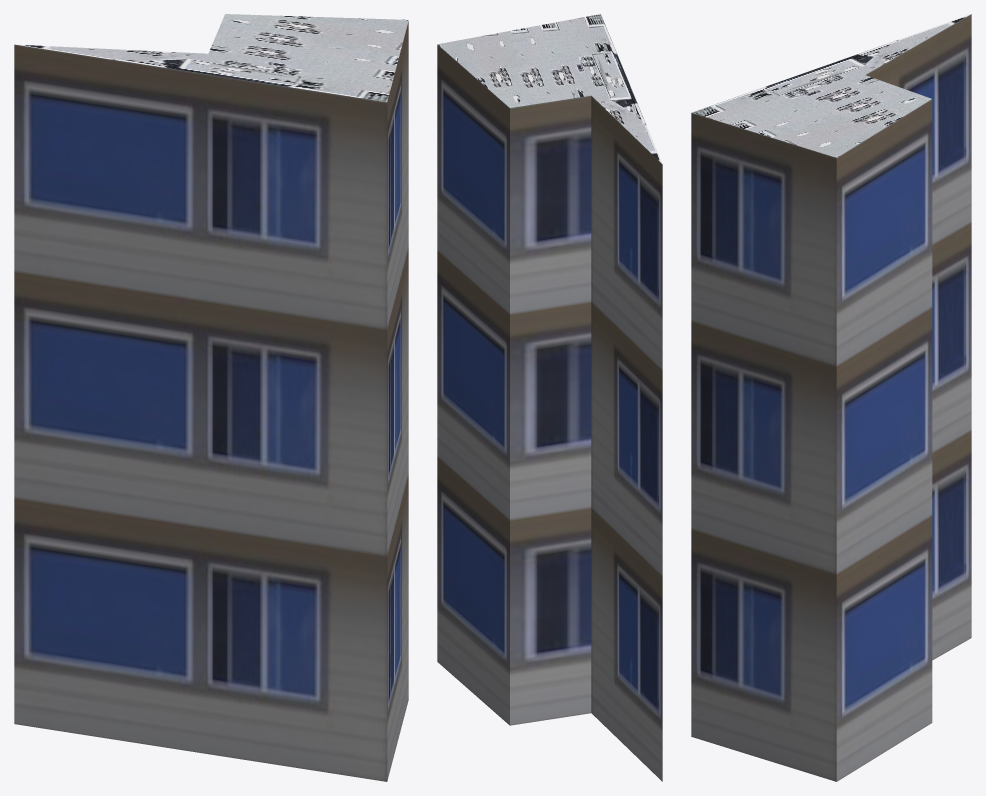
File: ResTex__4325.fbx
3 views of the same model, side by side, from view 1: azimuth 30°, elevation 25°; view 2: azimuth 150°, elevation 25°; view 3: azimuth 270°, elevation 25° (orthographic). The views are drawn at different scales.
Parts seen in each view (by area): view 1: CityEngineMaterial_23_m, CityEngineMaterial_4_m; view 2: CityEngineMaterial_23_m, CityEngineMaterial_4_m; view 3: CityEngineMaterial_23_m, CityEngineMaterial_4_m.
Boxes of the visible parts, left/top/right/bottom form: CityEngineMaterial_23_m: left=14, top=21, right=408, bottom=781; CityEngineMaterial_4_m: left=16, top=14, right=408, bottom=102; CityEngineMaterial_23_m: left=437, top=44, right=662, bottom=781; CityEngineMaterial_4_m: left=438, top=14, right=662, bottom=163; CityEngineMaterial_23_m: left=691, top=14, right=971, bottom=781; CityEngineMaterial_4_m: left=692, top=14, right=970, bottom=157.
Size of the model in its own units: 4.45 by 9 by 3.66.
Materials: 2 (2 with a texture image).
